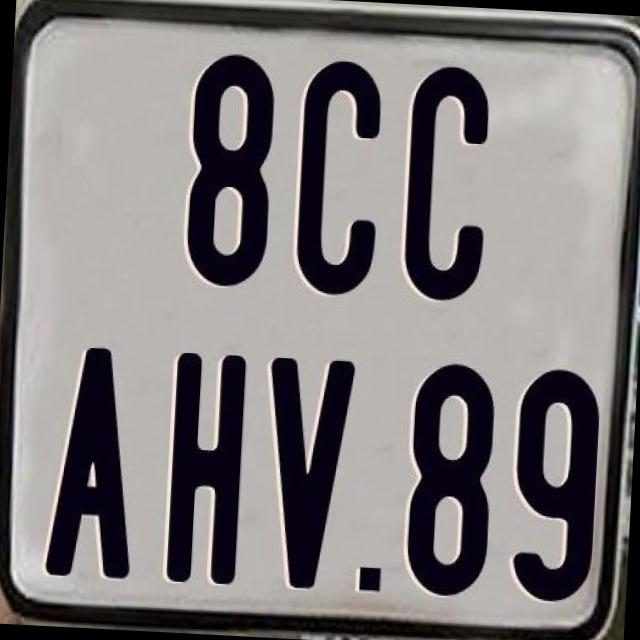8: (404, 357, 504, 596), (185, 51, 282, 294)
9: (507, 364, 607, 607)
A: (43, 345, 146, 586)
C: (292, 56, 386, 304), (398, 64, 488, 303)
H: (162, 349, 248, 588)
V: (255, 354, 357, 588)
